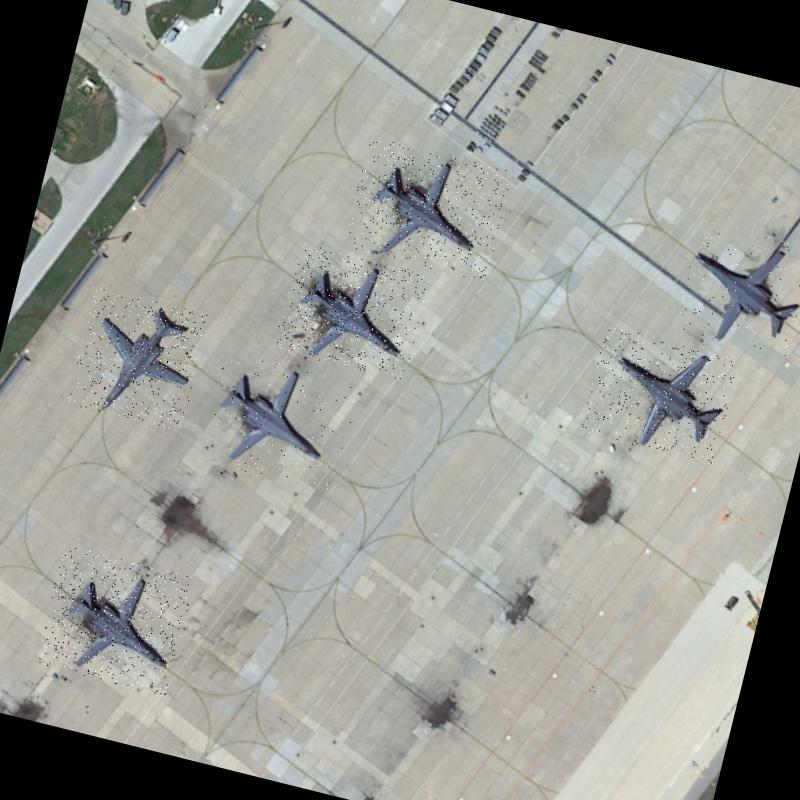A10: (342, 136, 512, 282), (34, 544, 196, 696), (198, 350, 360, 493), (580, 324, 740, 464), (272, 242, 430, 381), (66, 286, 210, 432), (672, 221, 800, 357)
